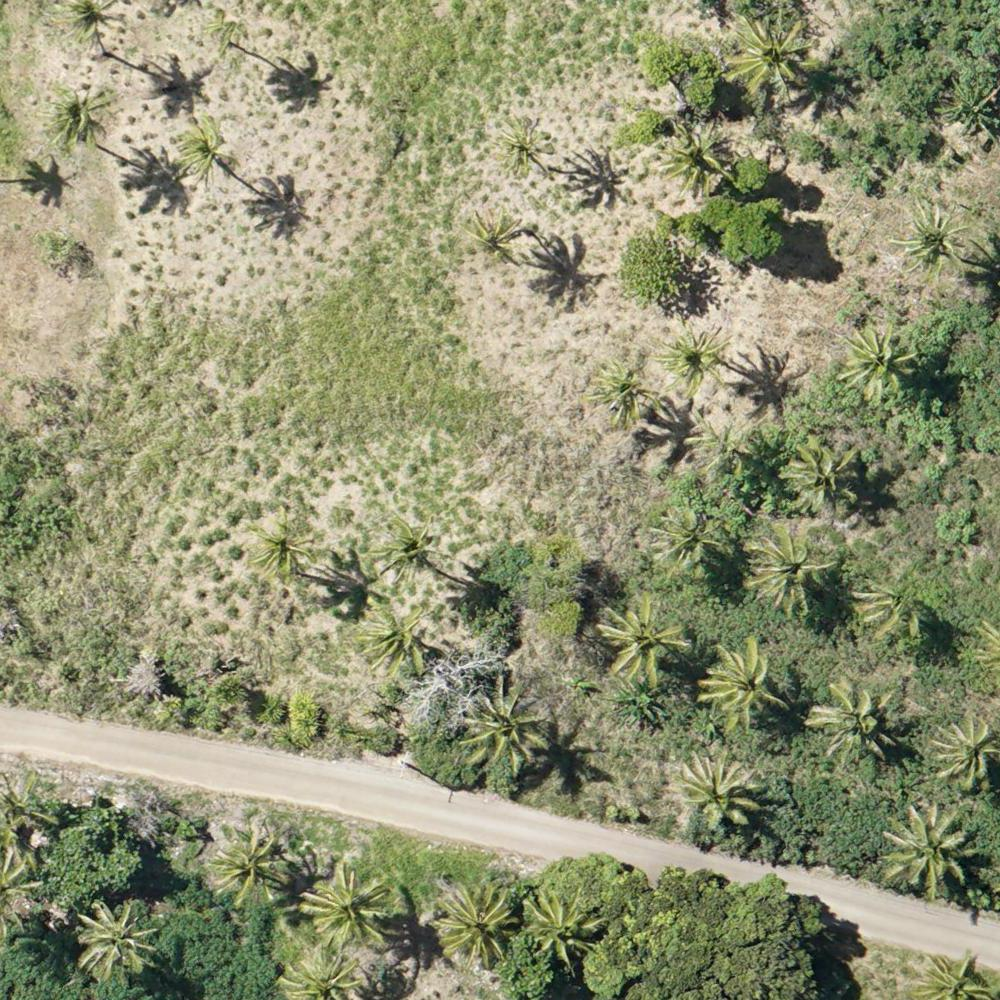Palm: (879, 805, 972, 893), (697, 635, 786, 725), (811, 675, 901, 763), (718, 15, 814, 97), (675, 748, 765, 834), (464, 674, 548, 764), (302, 866, 390, 950), (749, 527, 832, 611), (603, 598, 685, 682), (70, 899, 156, 973), (438, 883, 517, 963), (926, 713, 1000, 796), (837, 321, 919, 395), (520, 890, 601, 964), (891, 201, 973, 273), (211, 829, 287, 904), (846, 576, 931, 642), (654, 125, 735, 192), (652, 501, 725, 574), (789, 438, 862, 510), (358, 610, 431, 678), (372, 510, 439, 582), (655, 327, 725, 392), (39, 82, 104, 147), (248, 517, 313, 580), (170, 118, 235, 180), (589, 364, 651, 423), (492, 119, 553, 177), (464, 209, 520, 269)
